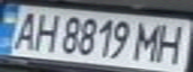1: (93, 16, 115, 58)
8: (57, 12, 84, 55), (75, 15, 100, 56)
9: (109, 17, 136, 61)
A: (6, 8, 42, 52)
H: (151, 21, 190, 65), (27, 10, 60, 53)
M: (130, 19, 166, 63)
